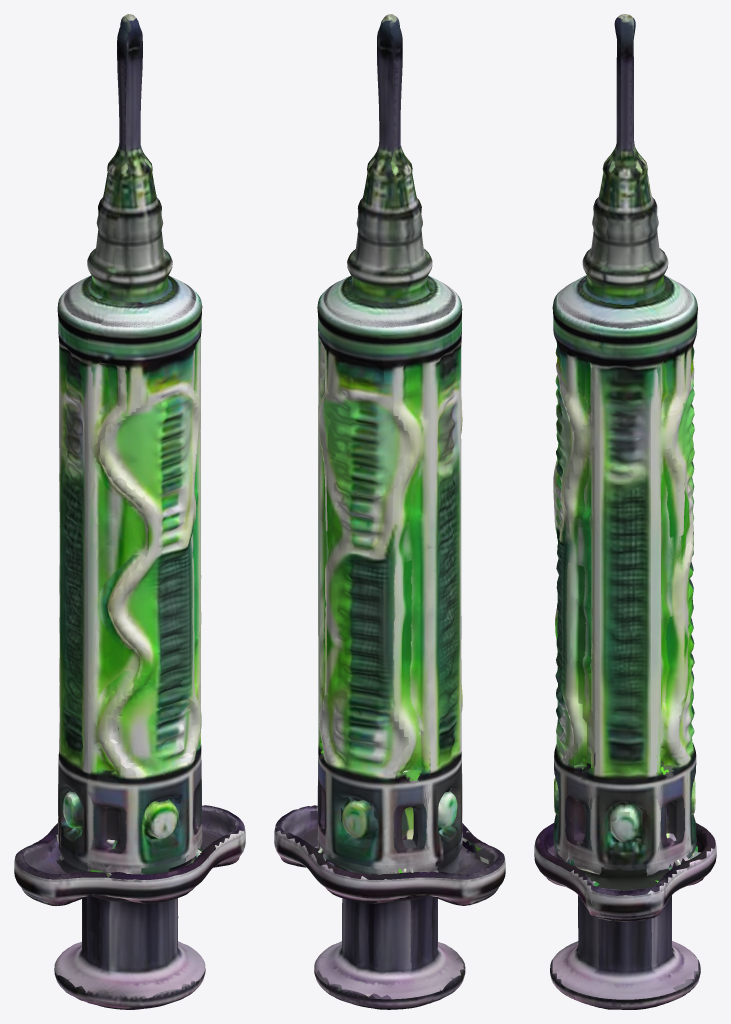
3 views of the same model, side by side, from view 1: azimuth 30°, elevation 25°; view 2: azimuth 150°, elevation 25°; view 3: azimuth 270°, elevation 25° (orthographic).
Visible parts, largest first — view 1: tmpe25hmvjc.ply; view 2: tmpe25hmvjc.ply; view 3: tmpe25hmvjc.ply.
Part boxes in pixels (x1,y1,x2,y2): tmpe25hmvjc.ply: (14, 14, 245, 1009); tmpe25hmvjc.ply: (274, 14, 505, 1009); tmpe25hmvjc.ply: (534, 14, 716, 1009).
Bounding box in the file's own units: 0.4606 × 1.99 × 0.3349.
1 material, 1 textured.
